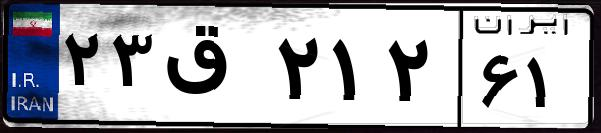1: (330, 28, 385, 110), (525, 38, 570, 115)
2: (270, 28, 330, 110), (385, 28, 445, 110), (57, 26, 110, 100)
3: (110, 28, 158, 98)
6: (475, 38, 525, 113)
ق: (158, 20, 270, 120)
